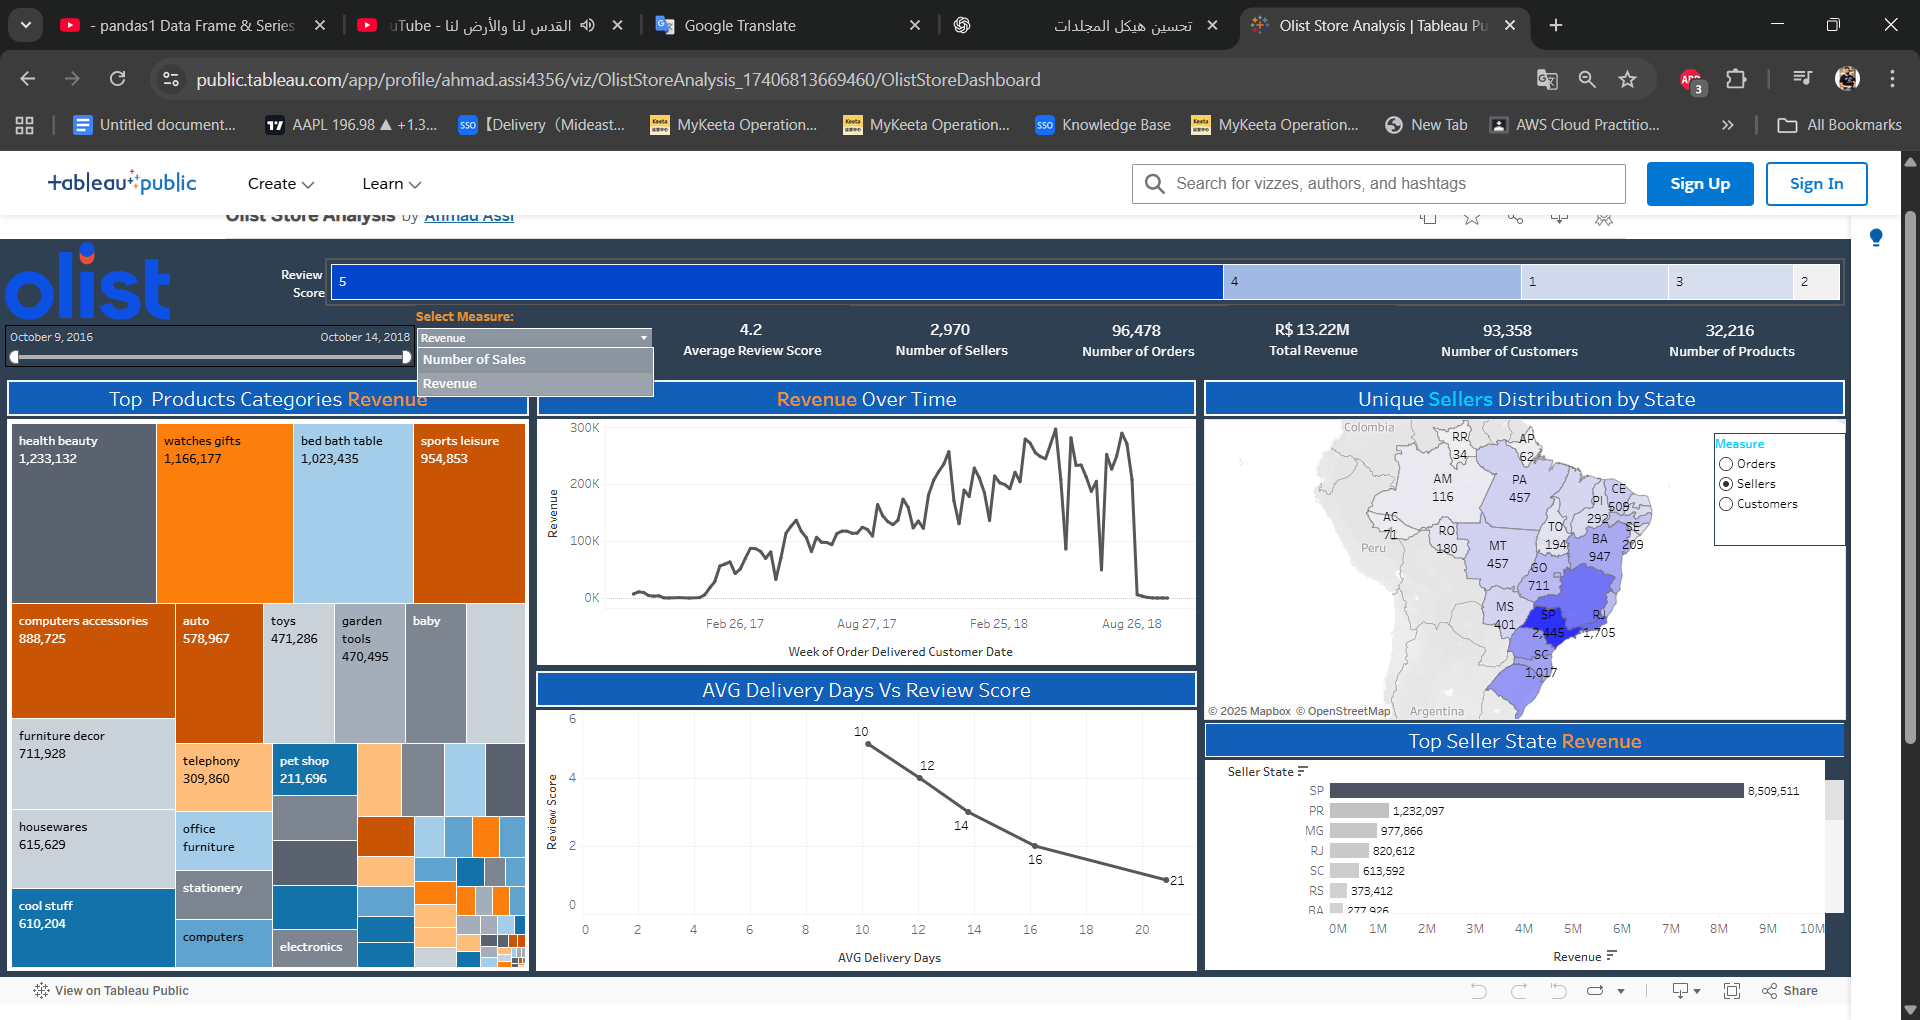

Layout of this report page (visuals, bound fields, positions):
{"tool":"tableau","page":{"name":"Olist Store Dashboard","canvas":[1000,1000],"units":"permille","ordinal":0},"visuals":[{"type":"image","box":[2.5,4,129.6,105.8]},{"type":"worksheet","title":"Review Score ","mark":"Automatic","box":[175.7,25.4,821.2,65.6]},{"type":"text","box":[140.1,26.8,35.6,64.3]},{"type":"parameter","param":"[Parameters].[Parameter 1]","box":[223.9,89,130.5,89]},{"type":"worksheet","title":"AVG Review Score","mark":"Automatic","box":[352.4,89,106.9,90.9]},{"type":"worksheet","title":"Total Revenue","mark":"Automatic","box":[664,89.7,90.9,91]},{"type":"worksheet","title":"Number Of Sellers","mark":"Automatic","box":[462.5,91,102,88.4]},{"type":"worksheet","title":"Number of Orders","mark":"Automatic","box":[566.3,91,95.8,89.7]},{"type":"worksheet","title":"Number of Customers","mark":"Automatic","box":[756.1,91,116.7,91]},{"type":"worksheet","title":"Number of Products","mark":"Automatic","box":[875.3,91,119.2,91]},{"type":"filter","title":"AVG Delivery Days Vs Review Score","param":"[federated.1hp3x6c0k42qbs14sy2fb09rffg6].[twk:order_delivered_customer_date:qk]","box":[2.5,116.5,221.7,57.6]},{"type":"worksheet","title":"Distribution of Orders, Sellers, and Customers","mark":"Automatic","box":[650.3,191.1,347,460.1]},{"type":"worksheet","title":"Products categories Sales","mark":"Automatic","box":[3.7,191.4,281.9,800.5]},{"type":"worksheet","title":"Sales Distribution Over Time","mark":"Automatic","rows":["Calculation_1563312071946731521"],"cols":["order_delivered_customer_date"],"box":[289.9,191.4,356.3,385.5]},{"type":"parameter","param":"[Parameters].[Parameter 2]","box":[926,263.4,71.3,152.1]},{"type":"worksheet","title":"AVG Delivery Days Vs Review Score","mark":"Automatic","rows":["ReviewScore"],"cols":["DeliveryDaysTime"],"box":[289.3,585,357.5,407]},{"type":"worksheet","title":"Top Seller State Revenue","mark":"Automatic","rows":["seller_state"],"cols":["Calculation_1563312071946731521"],"box":[651.1,656,345.2,334.7]}]}

Visuals, with their boxes on the dashboard's canvas, which has no fixed pixel size, in thousandths of its width and height (x1, y1, x2, y2). These are canvas units, not pixel positions in the 1920x1020 screenshot, which may show the page scaled, cropped or inside an application window:
image: <bbox>2, 4, 132, 110</bbox>
"Review Score " worksheet: <bbox>176, 25, 997, 91</bbox>
text: <bbox>140, 27, 176, 91</bbox>
parameter: <bbox>224, 89, 354, 178</bbox>
"AVG Review Score" worksheet: <bbox>352, 89, 459, 180</bbox>
"Total Revenue" worksheet: <bbox>664, 90, 755, 181</bbox>
"Number Of Sellers" worksheet: <bbox>462, 91, 564, 179</bbox>
"Number of Orders" worksheet: <bbox>566, 91, 662, 181</bbox>
"Number of Customers" worksheet: <bbox>756, 91, 873, 182</bbox>
"Number of Products" worksheet: <bbox>875, 91, 994, 182</bbox>
"AVG Delivery Days Vs Review Score" filter: <bbox>2, 116, 224, 174</bbox>
"Distribution of Orders, Sellers, and Customers" worksheet: <bbox>650, 191, 997, 651</bbox>
"Products categories Sales" worksheet: <bbox>4, 191, 286, 992</bbox>
"Sales Distribution Over Time" worksheet: <bbox>290, 191, 646, 577</bbox>
parameter: <bbox>926, 263, 997, 416</bbox>
"AVG Delivery Days Vs Review Score" worksheet: <bbox>289, 585, 647, 992</bbox>
"Top Seller State Revenue" worksheet: <bbox>651, 656, 996, 991</bbox>
